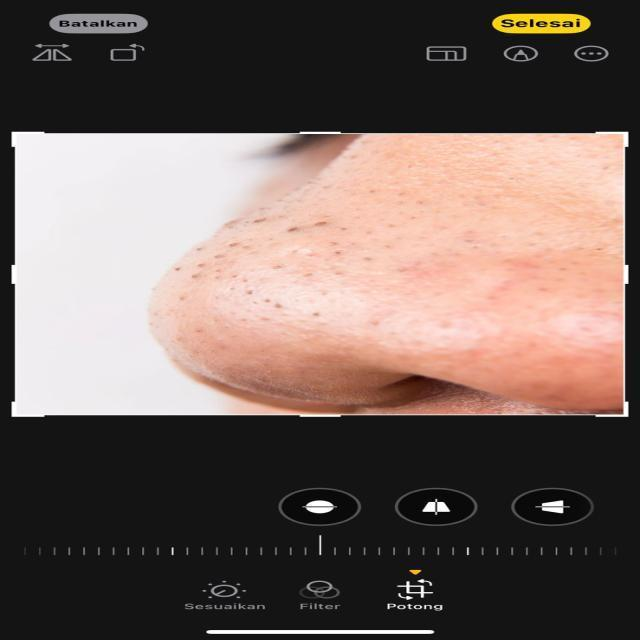blackhead: (172, 200, 406, 312)
